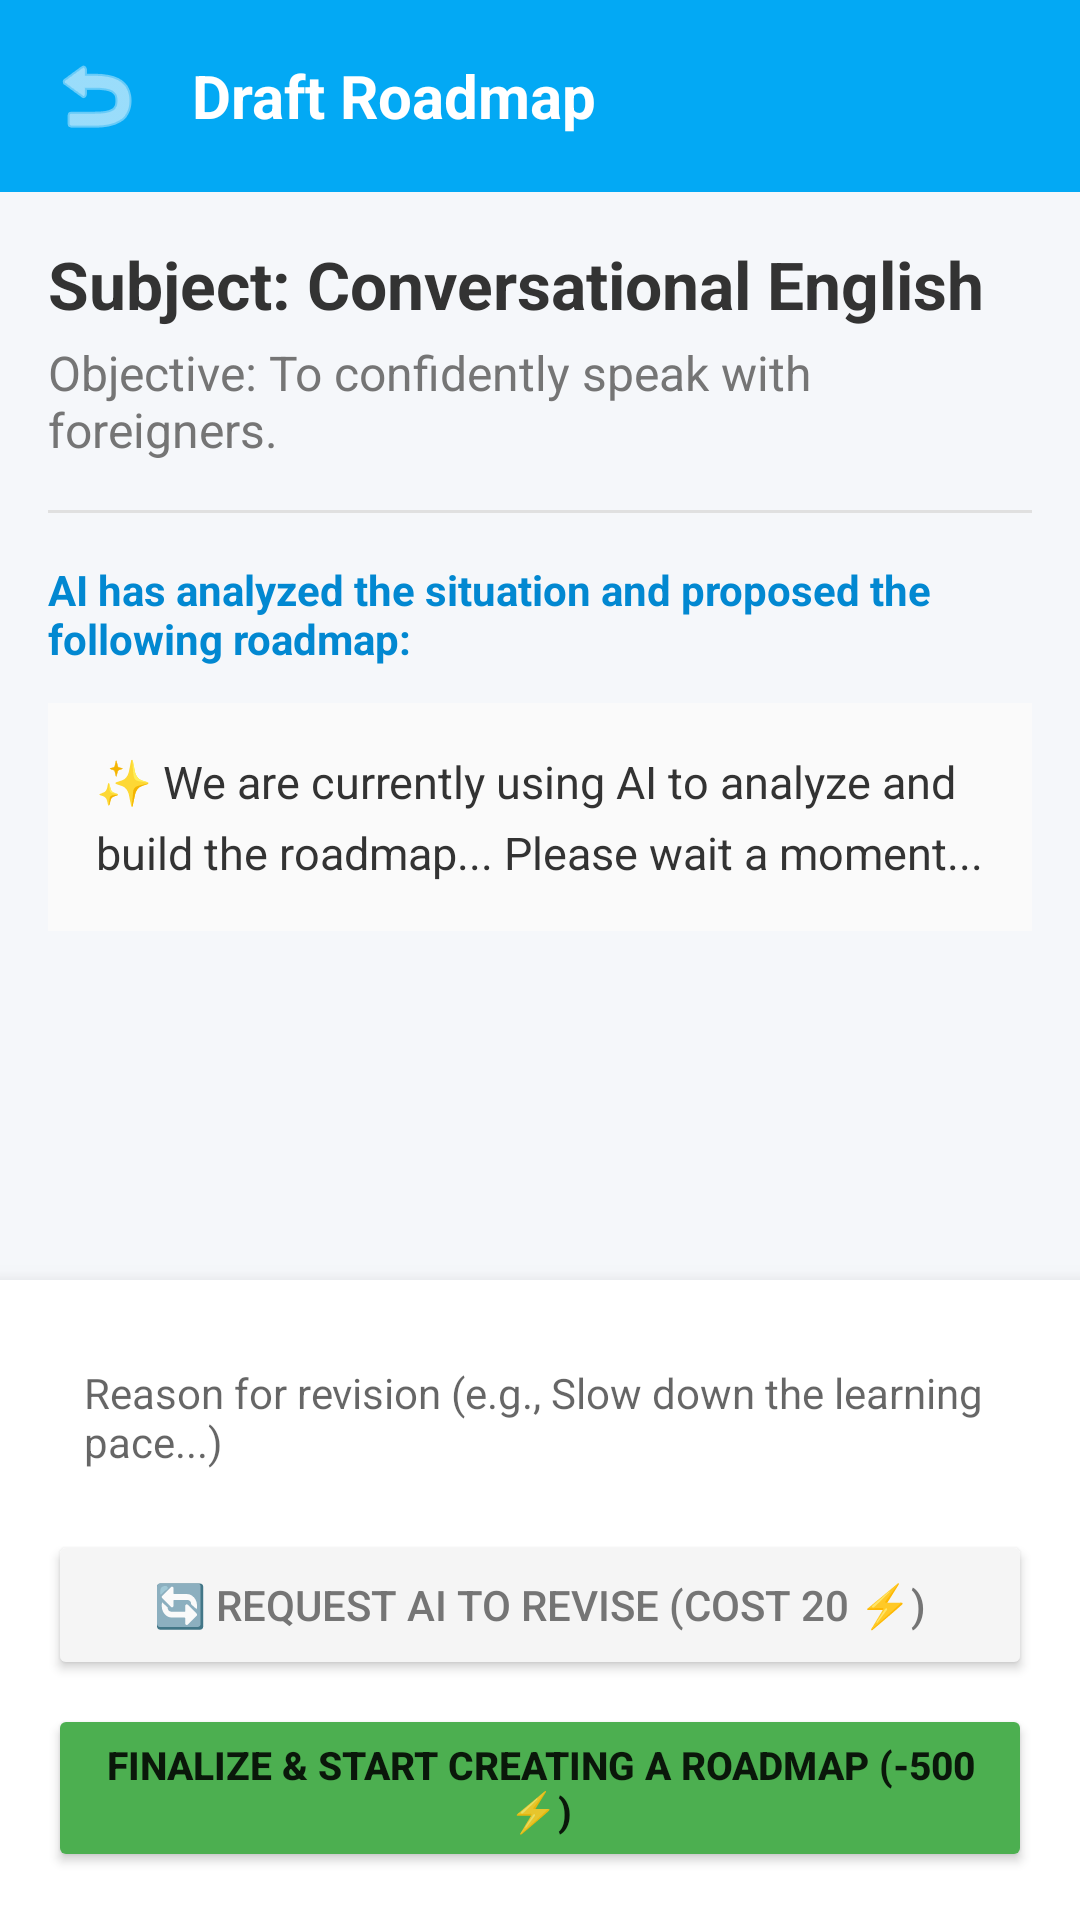

Icons on this 1080px×1920px Android screen, each with the point to tap as point (x, y):
revert: point (97, 96)
